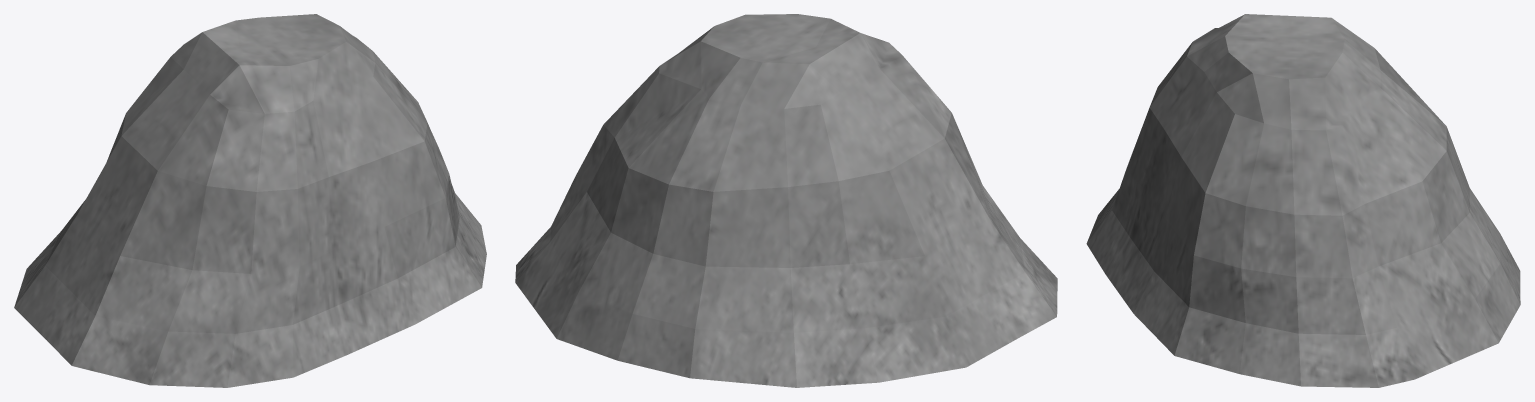
File: lvl1_sea_rock_4.fbx
The picture shows the model from 3 angles, left to right: view 1: azimuth 30°, elevation 25°; view 2: azimuth 150°, elevation 25°; view 3: azimuth 270°, elevation 25°; orthographic projection. The views are drawn at different scales.
Visible parts, largest first — view 1: lvl1_sea_rock_4; view 2: lvl1_sea_rock_4; view 3: lvl1_sea_rock_4.
Boxes of the visible parts, <box> form: lvl1_sea_rock_4: <box>14,14,486,387</box>; lvl1_sea_rock_4: <box>515,14,1057,387</box>; lvl1_sea_rock_4: <box>1086,14,1520,387</box>.
Bounding box in the file's own units: 7520 × 3965 × 6322.
